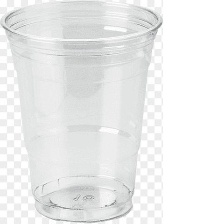glass: (0, 0, 163, 224)
